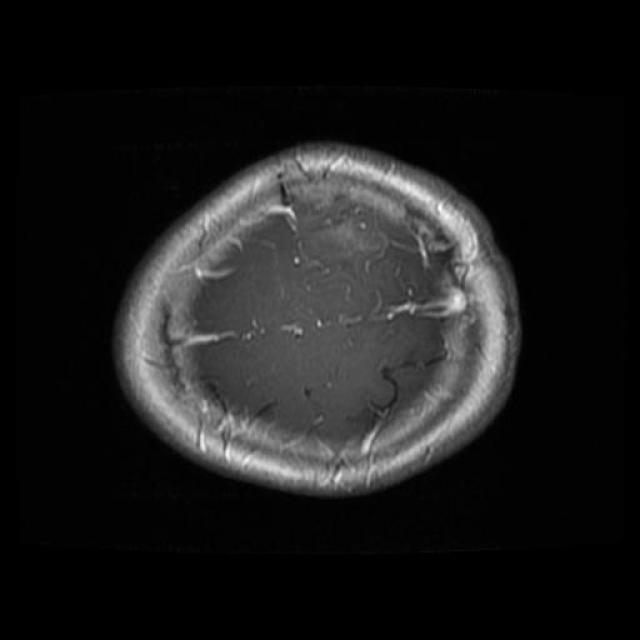Glioma: (282, 171, 433, 264)
